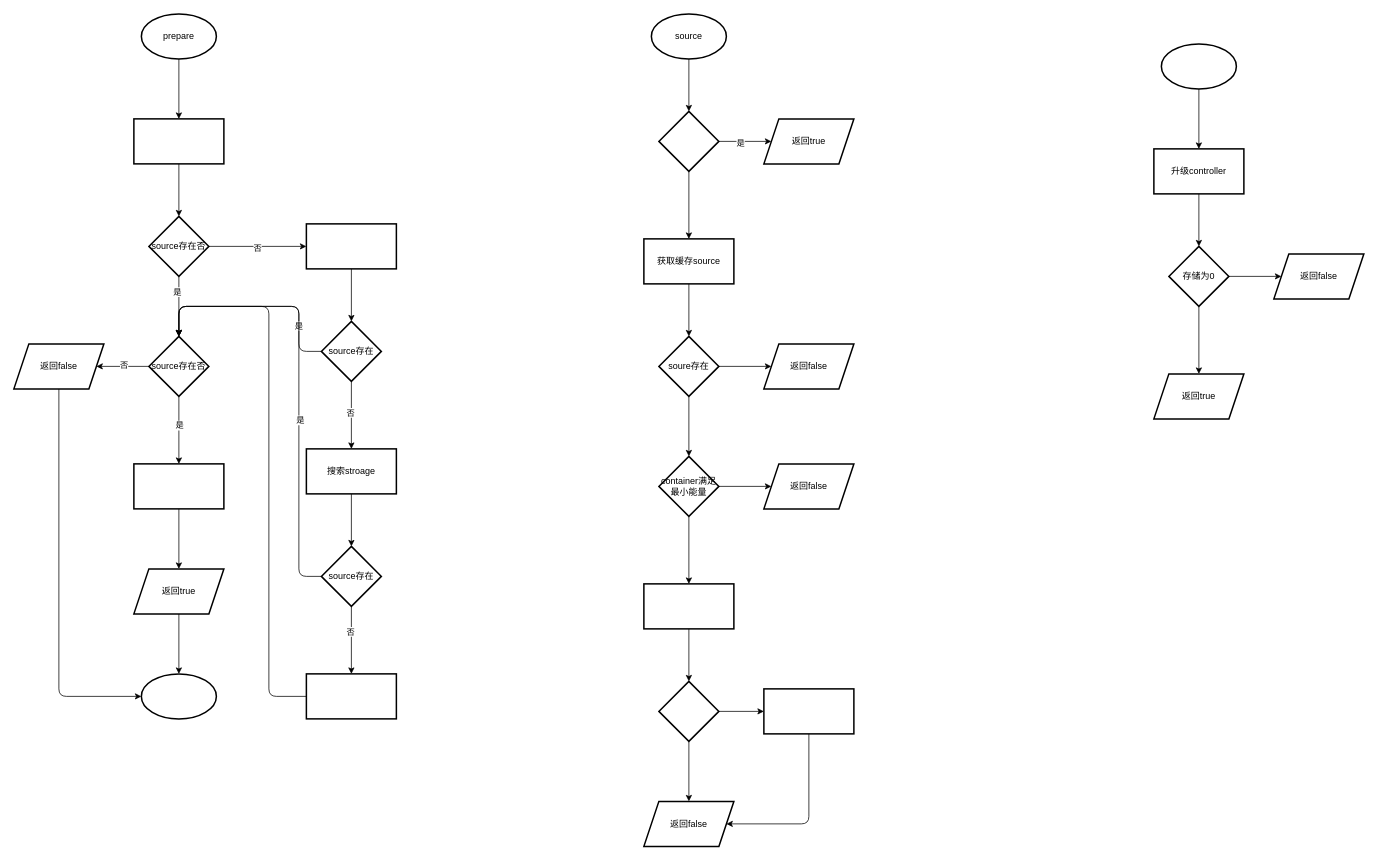
The diagram is 1377 pixels wide and 860 high, and some of its shapes have lost their labels. The shapes that lost their labels are listed below. From the top down, each one's centre as x and y in pixels, then its label:
At pixel 1198 66: "target".
At pixel 178 141: "获取缓存的source".
At pixel 688 141: "存储大于0".
At pixel 351 246: "搜索container".
At pixel 178 486: "缓存source".
At pixel 688 606: "采集资源".
At pixel 178 696: "结束".
At pixel 351 696: "搜索terminal".
At pixel 688 711: "source资源不足".
At pixel 808 711: "重新prepare".
